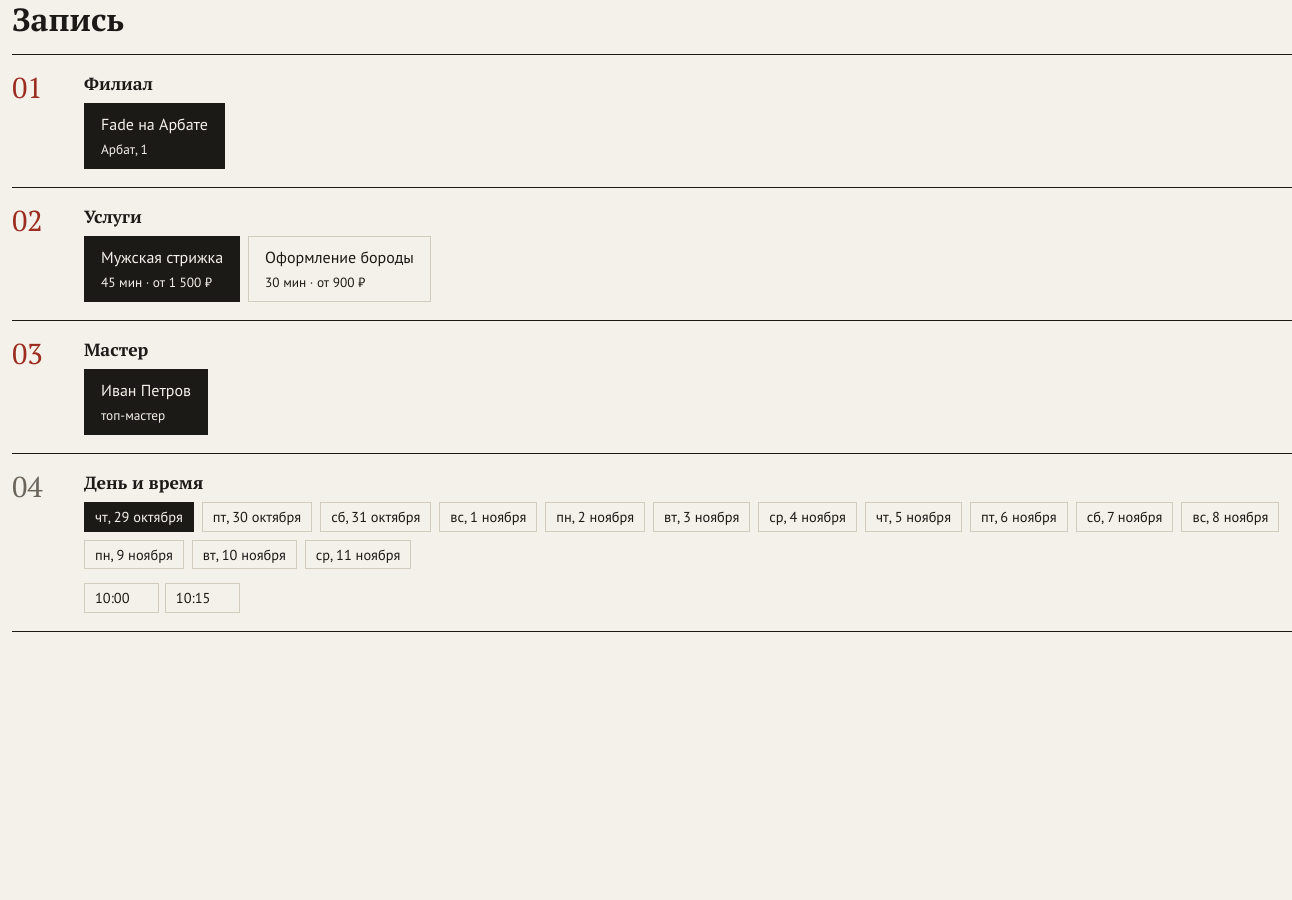
Test: Запись › если время заняли — показывает ошибку и просит выбрать другое
Click the button "10:00": [121, 598] box [84,583,159,613]
(page scrolled)
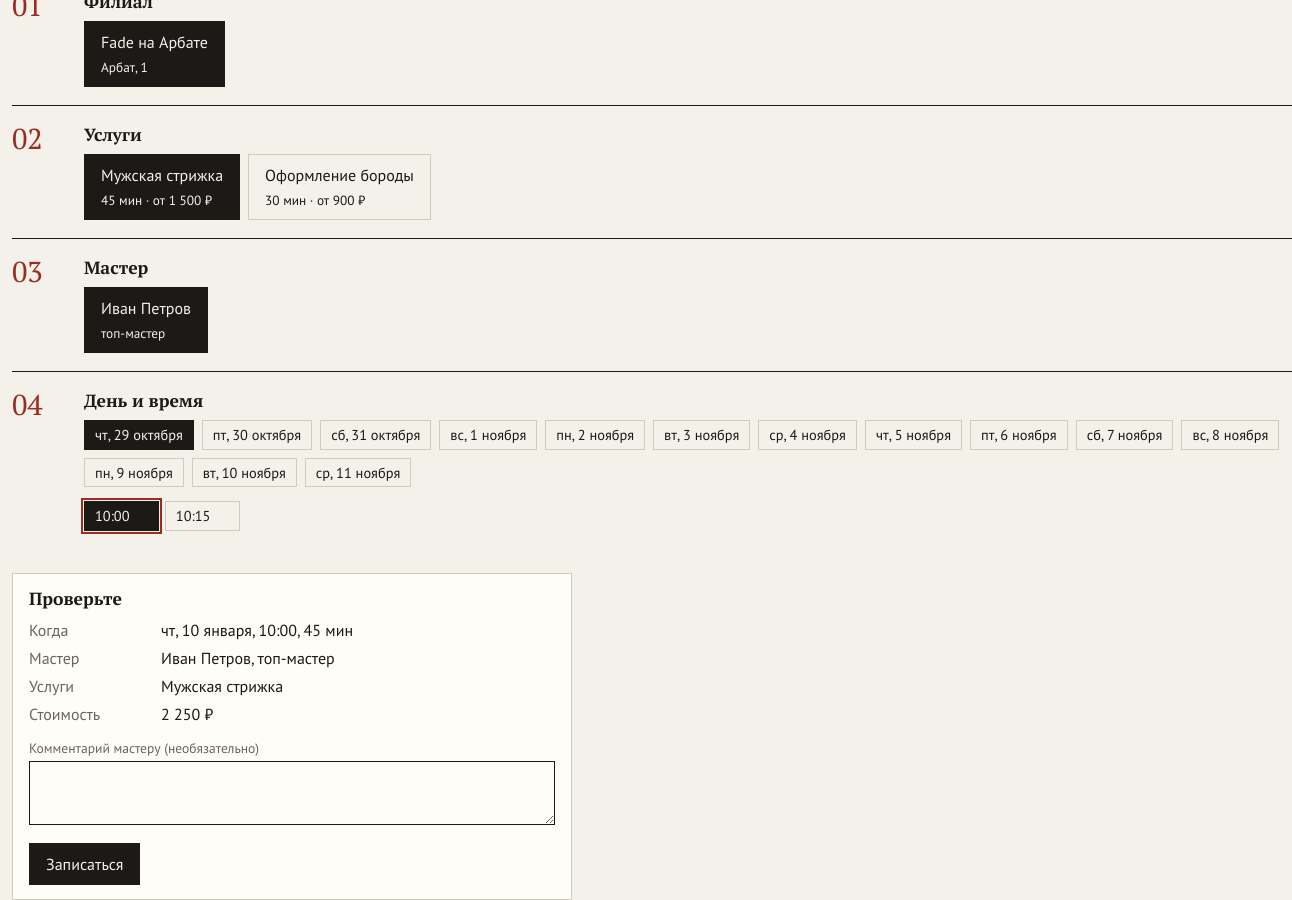
Click the button "Записаться": [85, 864] box [29,843,140,885]
(page scrolled)
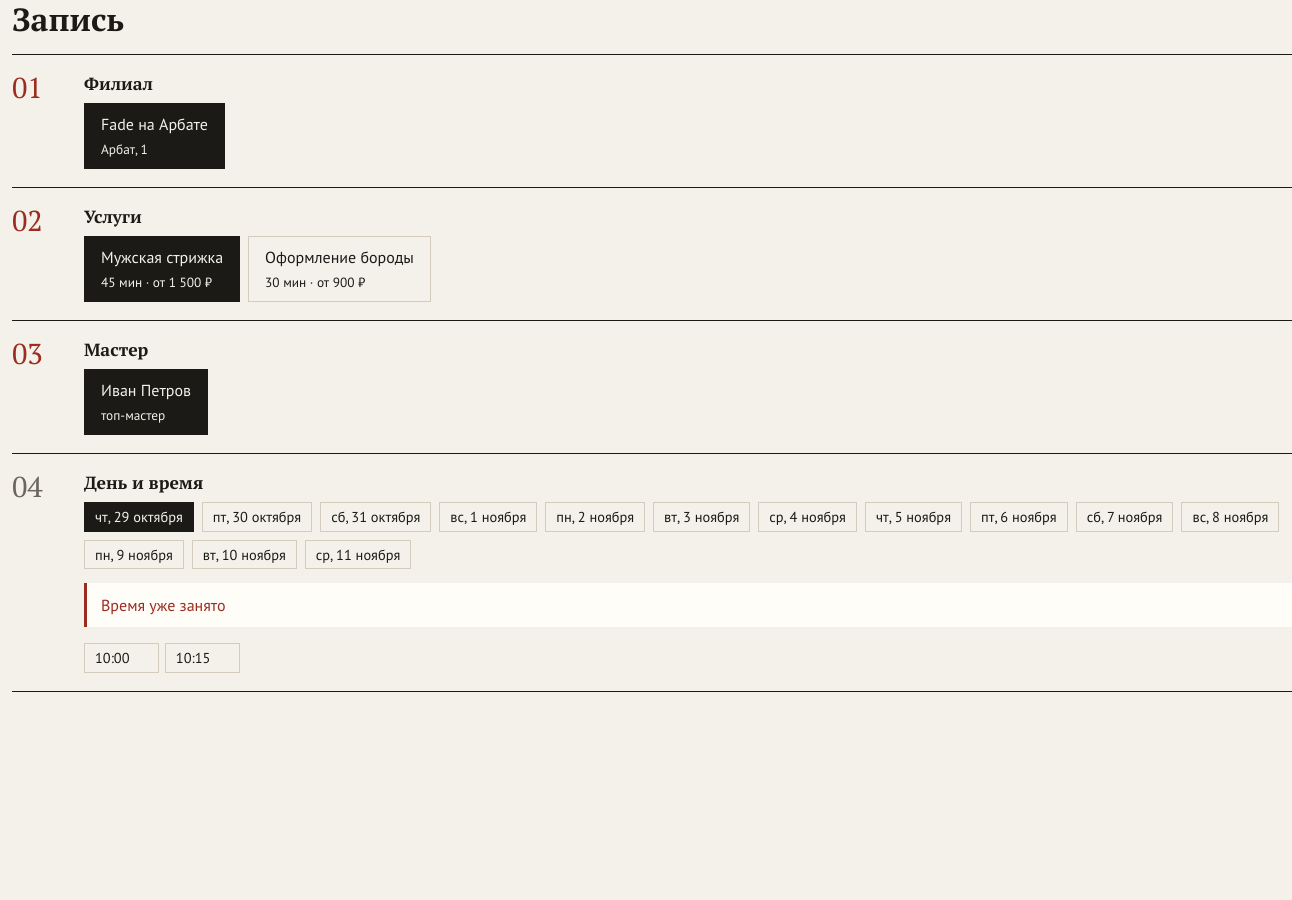
expect the text "Время уже занято" is shown: met, box [84,583,1291,627]
expect the heading "Проверьте" is gone: met
